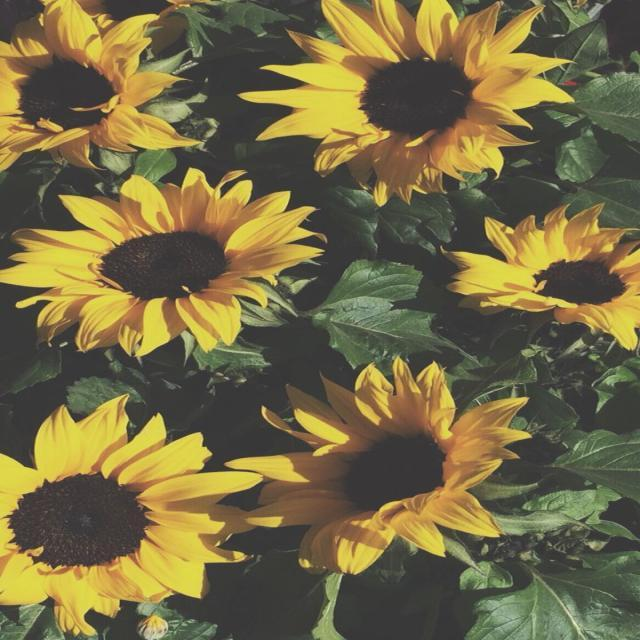sunflower: (236, 0, 576, 207), (223, 355, 532, 576), (0, 394, 264, 636), (0, 167, 327, 358), (0, 0, 201, 171), (439, 201, 639, 351)
